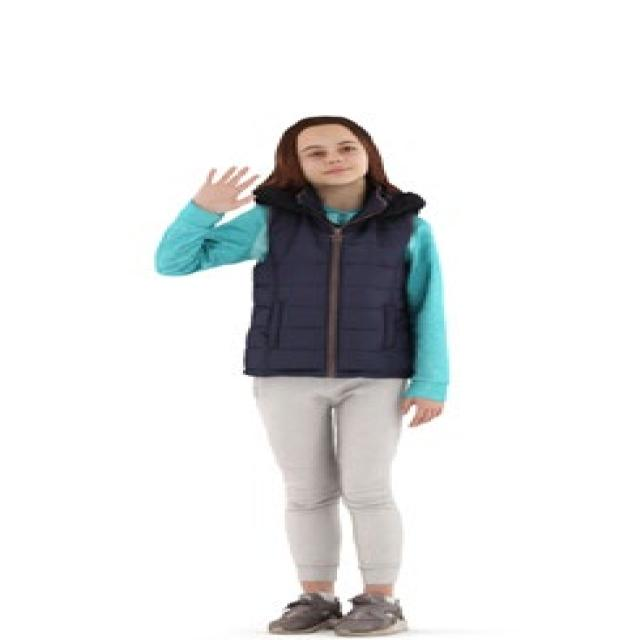standing: (150, 104, 452, 640)
